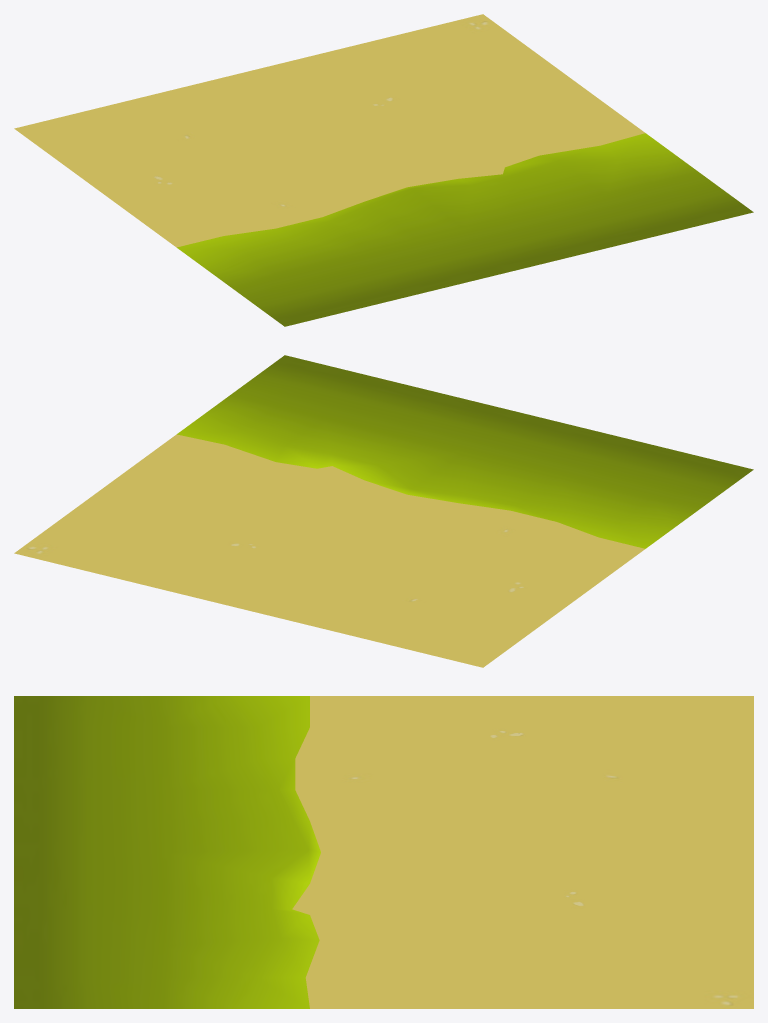
Rendered from Sand_To_Grass_Edge.fbx.
The picture shows the model from 3 angles, top to bottom: view 1: azimuth 30°, elevation 25°; view 2: azimuth 150°, elevation 25°; view 3: azimuth 270°, elevation 25°; orthographic projection. The views are drawn at different scales.
Visible parts, largest first — view 1: Sand_To_Grass_Edge; view 2: Sand_To_Grass_Edge; view 3: Sand_To_Grass_Edge.
Part boxes in pixels (x1,y1,x2,y2): Sand_To_Grass_Edge: (14,14,753,326); Sand_To_Grass_Edge: (14,355,753,667); Sand_To_Grass_Edge: (14,696,753,1008).
Size of the model in its own units: 2000 by 2000 by 17.24.
1 material, 1 textured.
